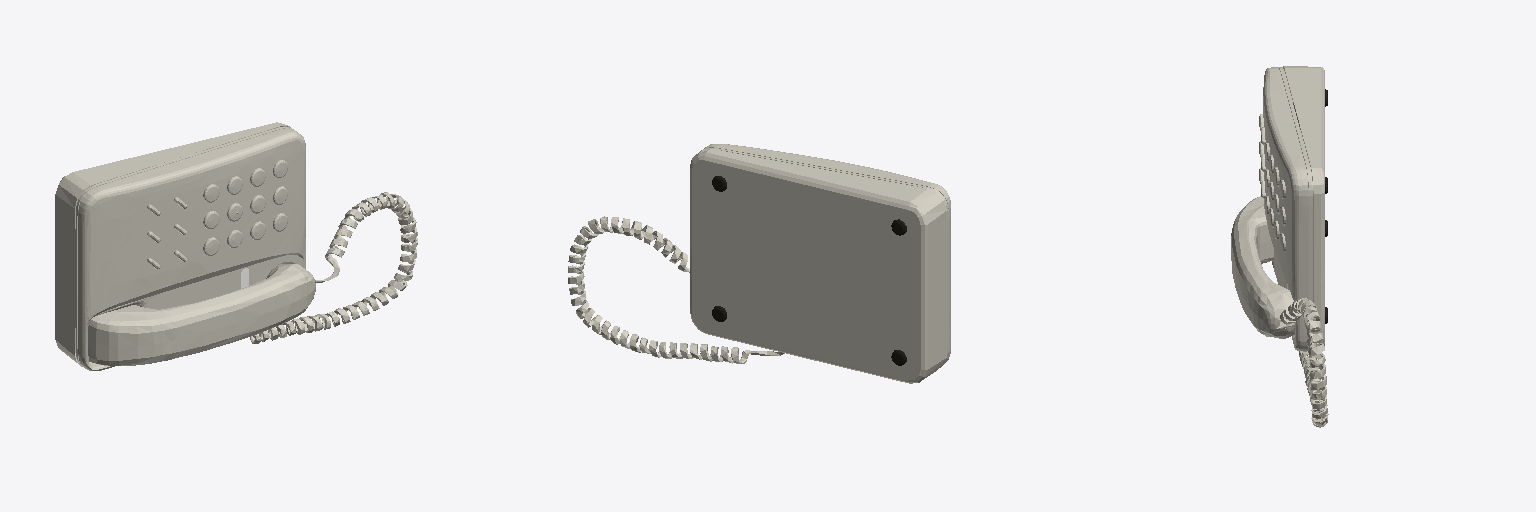
The model's file is telephone.obj.
3 renders of one model, left to right at view 1: azimuth 30°, elevation 25°; view 2: azimuth 150°, elevation 25°; view 3: azimuth 270°, elevation 25°, orthographic.
Visible parts, largest first — view 1: F6004TEL, F6004AUR, F6004TEL0, F6004CAB; view 2: F6004TEL0, F6004CAB, F6004TEL; view 3: F6004TEL, F6004AUR, F6004TEL0, F6004CAB.
Boxes of the visible parts, box(x1,y1,x2,y2) form: F6004TEL: box(75, 126, 305, 370); F6004AUR: box(88, 264, 315, 365); F6004TEL0: box(55, 122, 290, 366); F6004CAB: box(250, 192, 417, 343); F6004TEL0: box(690, 149, 946, 383); F6004CAB: box(568, 216, 784, 363); F6004TEL: box(701, 144, 950, 362); F6004TEL: box(1263, 67, 1313, 351); F6004AUR: box(1231, 196, 1294, 338); F6004TEL0: box(1283, 66, 1324, 345); F6004CAB: box(1274, 298, 1328, 427).
Size of the model in its own units: 9845 by 5671 by 2301.